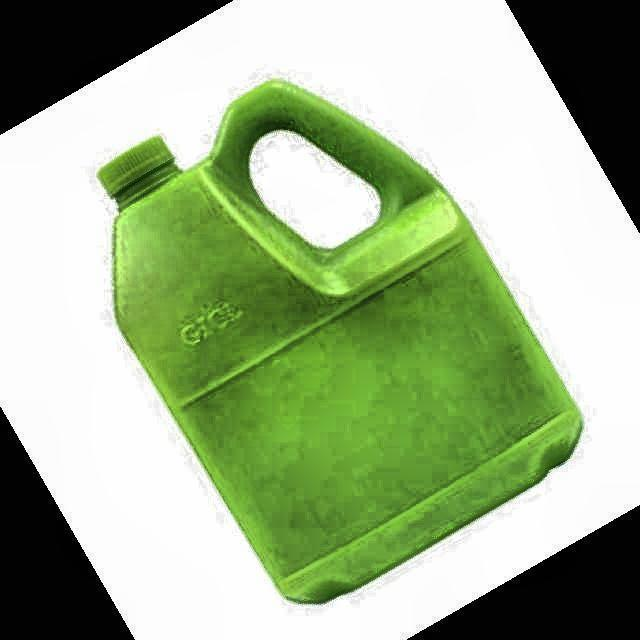plastic: (99, 81, 581, 602)
